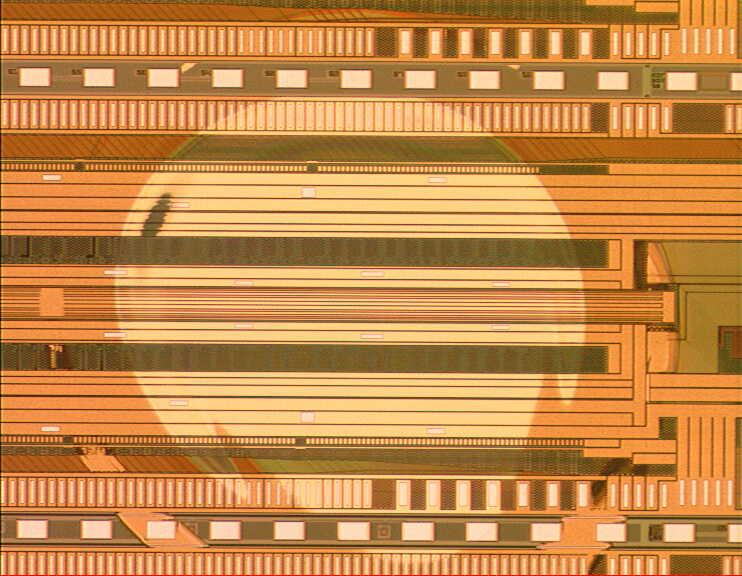COATING BAD: (34, 10, 688, 576)
